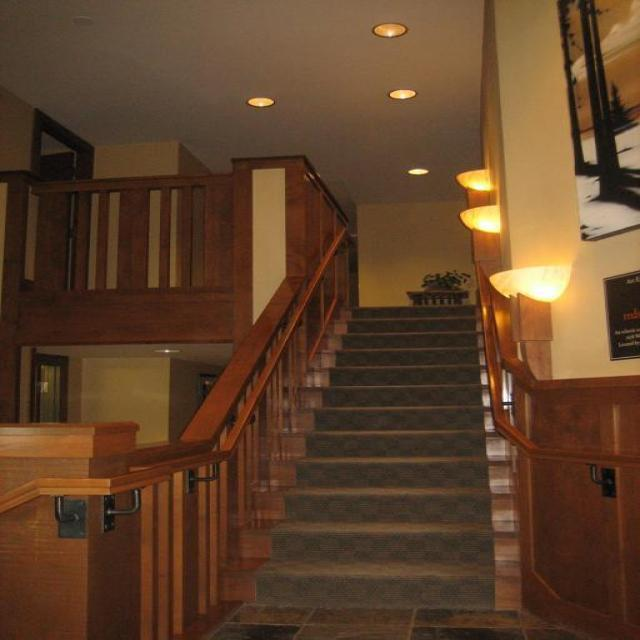crib: (0, 152, 352, 638)
light: (488, 264, 572, 303), (459, 204, 500, 233)
plants: (420, 269, 470, 290)
rugs: (253, 303, 495, 610)
table: (405, 288, 469, 306)
windows: (555, 0, 639, 241)
